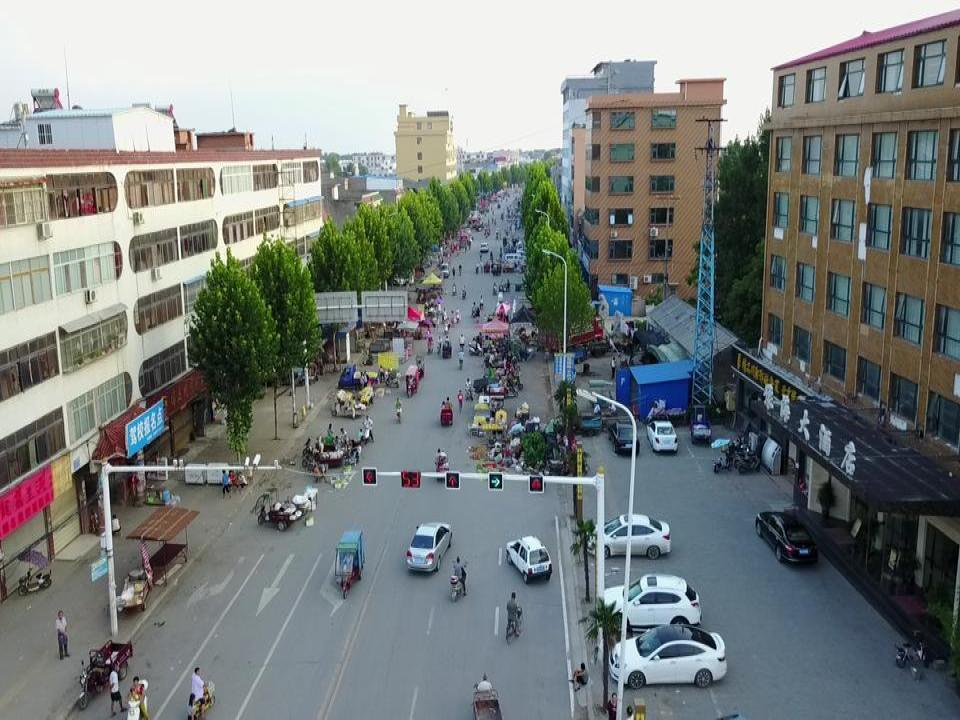car: (609, 624, 728, 689), (599, 573, 700, 632), (587, 513, 670, 560), (755, 509, 818, 567), (406, 521, 454, 571), (505, 536, 553, 583), (608, 421, 640, 456), (645, 420, 677, 453)
truck: (539, 315, 604, 356), (563, 409, 603, 436), (338, 366, 377, 390), (690, 410, 712, 446)
